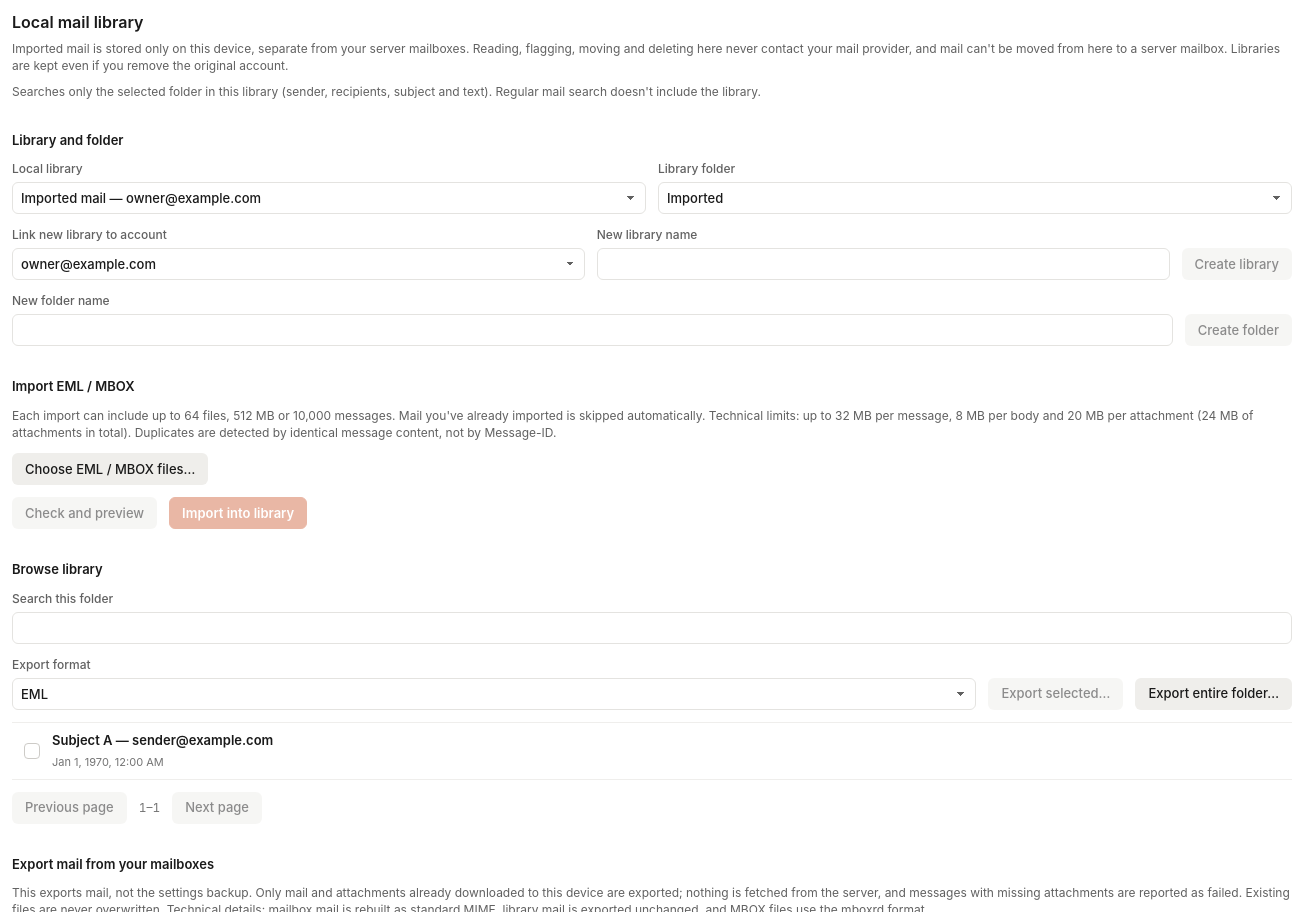
Test: Local mail archive browser › clears validation when destination changes and scopes archive exports separately from cached mailbox exports
This screenshot has width=1304, height=912.
Expected: the button "Subject A — sender@example.com Jan 1, 1970, 12:00 AM" is shown, [52,723,1292,779]
Click the checkbox named "Select Subject A" at (32, 751), box [24,743,40,759]
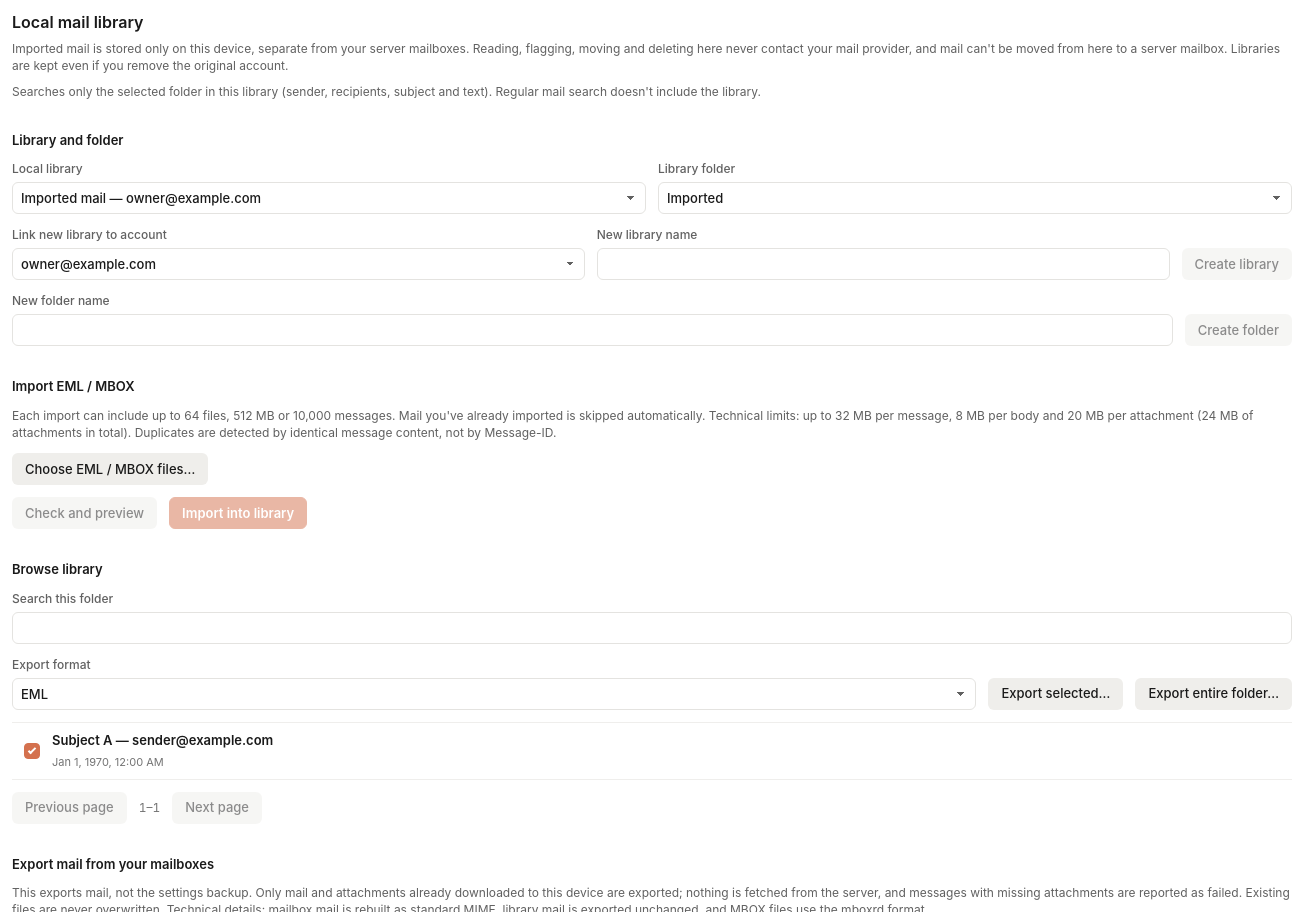
Click the button "Export selected…" at (1056, 694), box [988,678,1124,710]
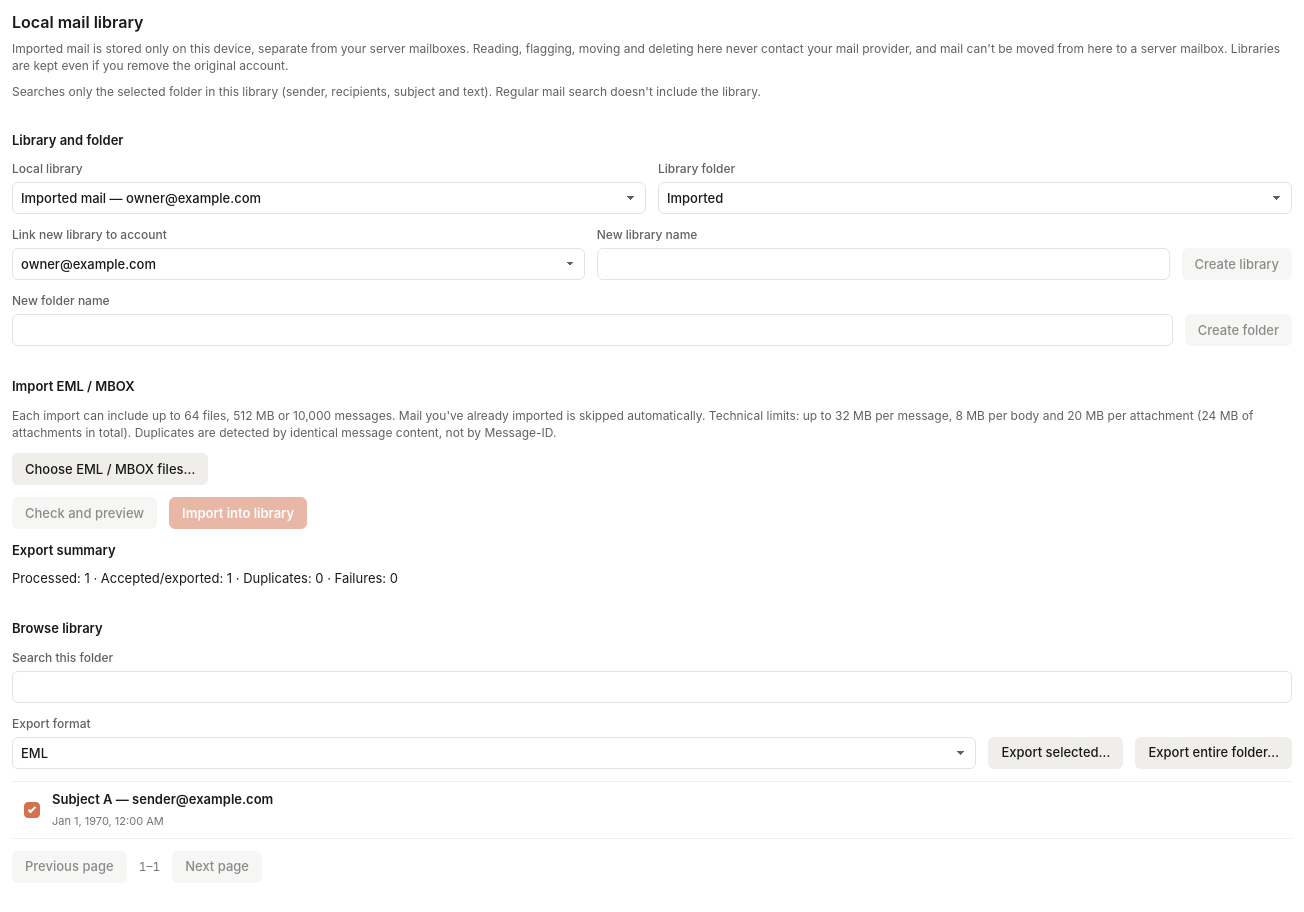
Select "MBOX (mboxrd)" in the dropdown labelled "Export format" at (494, 753), box [12,737,976,769]
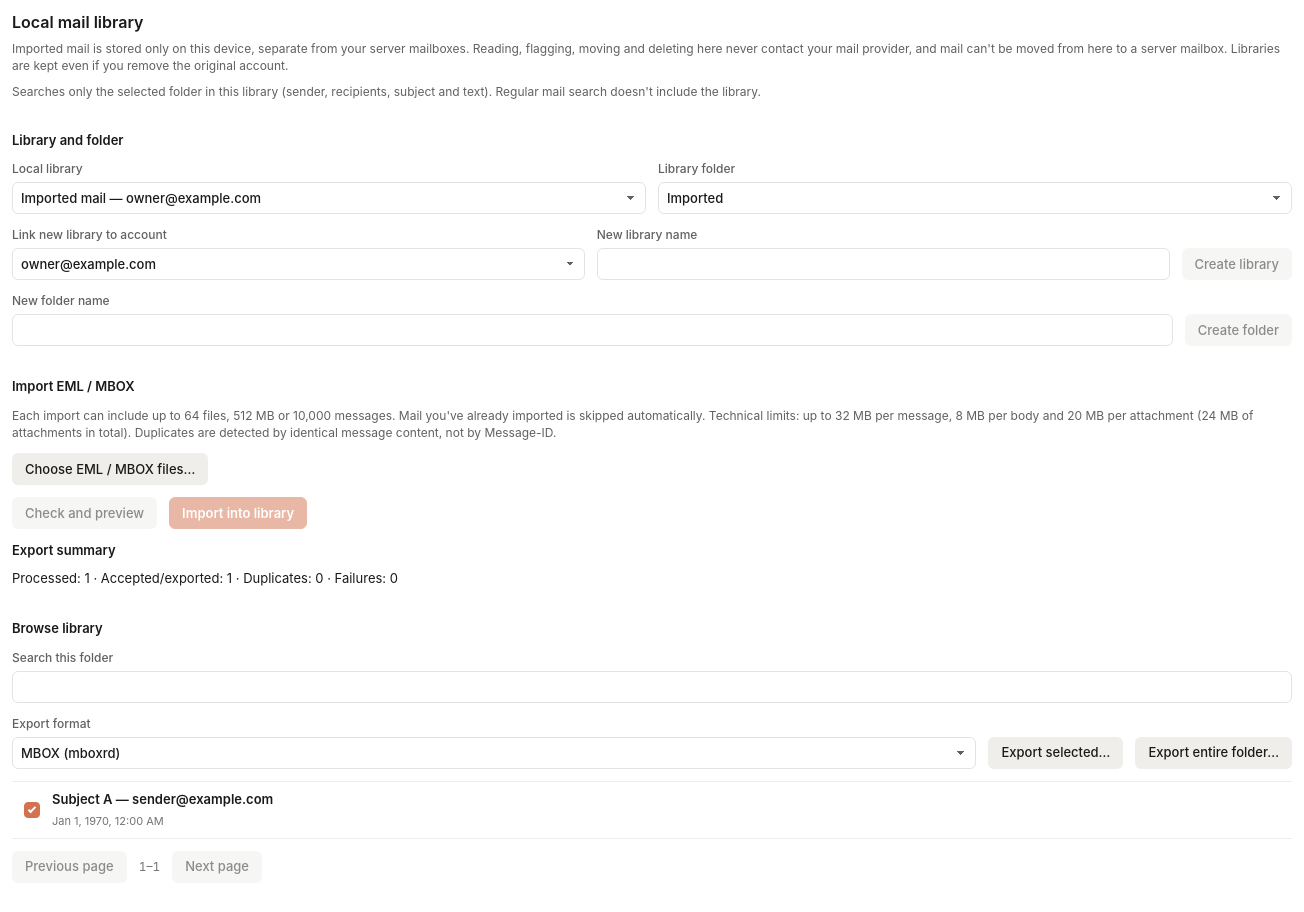
Click the button "Export entire folder…" at (1214, 753), box [1135,737,1292,769]
(page scrolled)
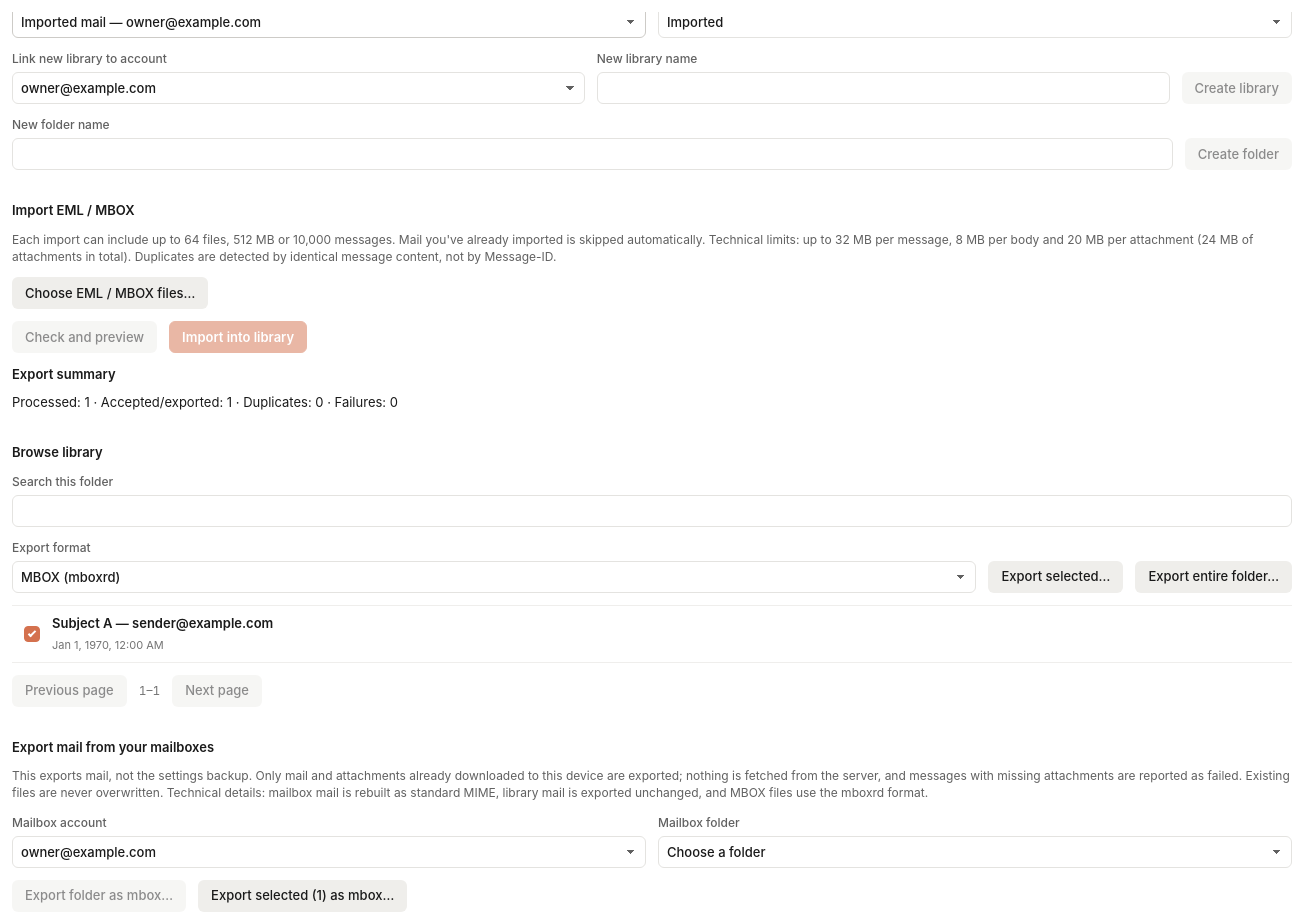
Click the button "Export selected (1) as mbox…" at (303, 896), box [198,880,407,911]
(page scrolled)
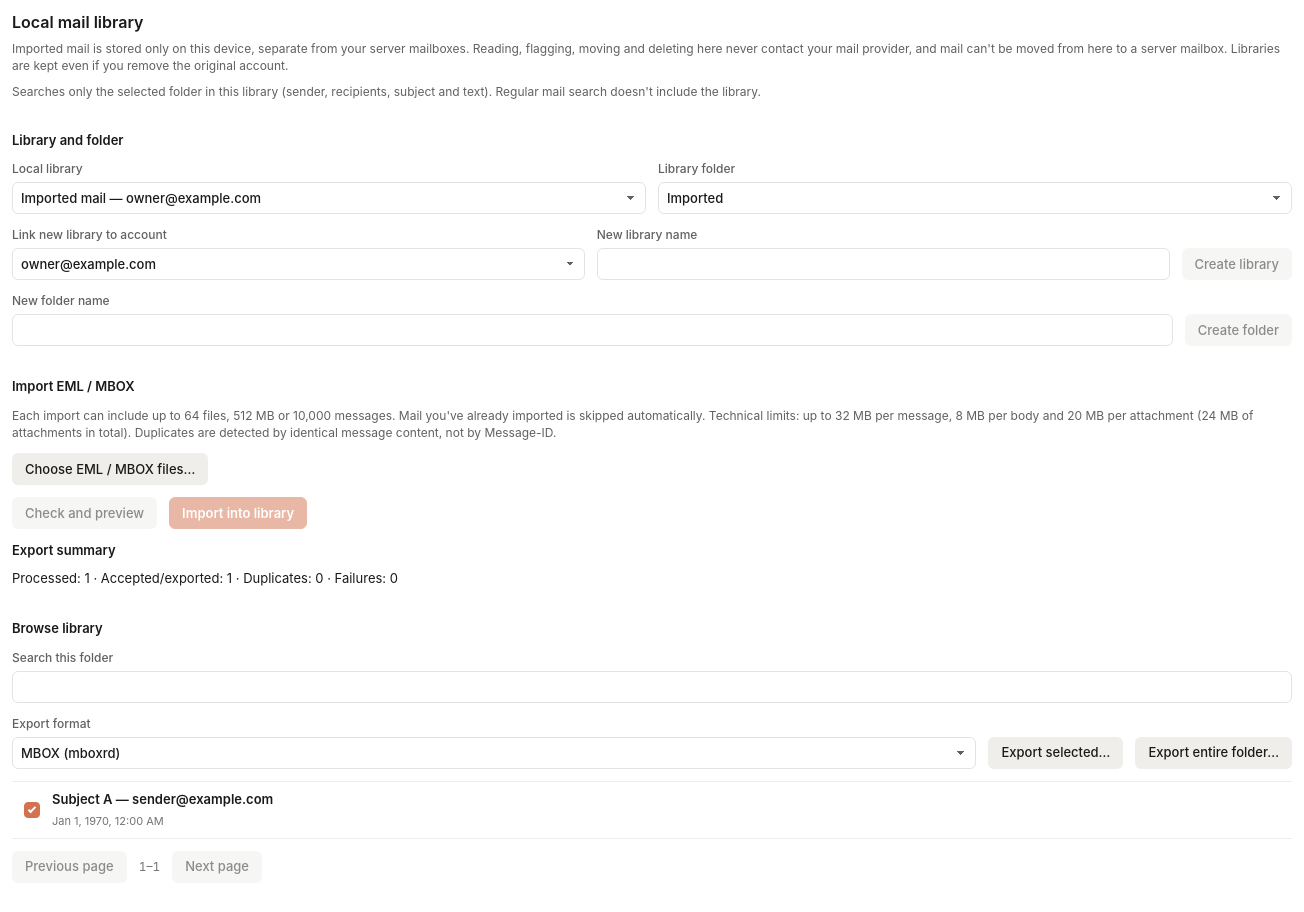
Select "Other archive — owner@example.com" in the dropdown labelled "Local library" at (329, 198), box [12,182,646,214]
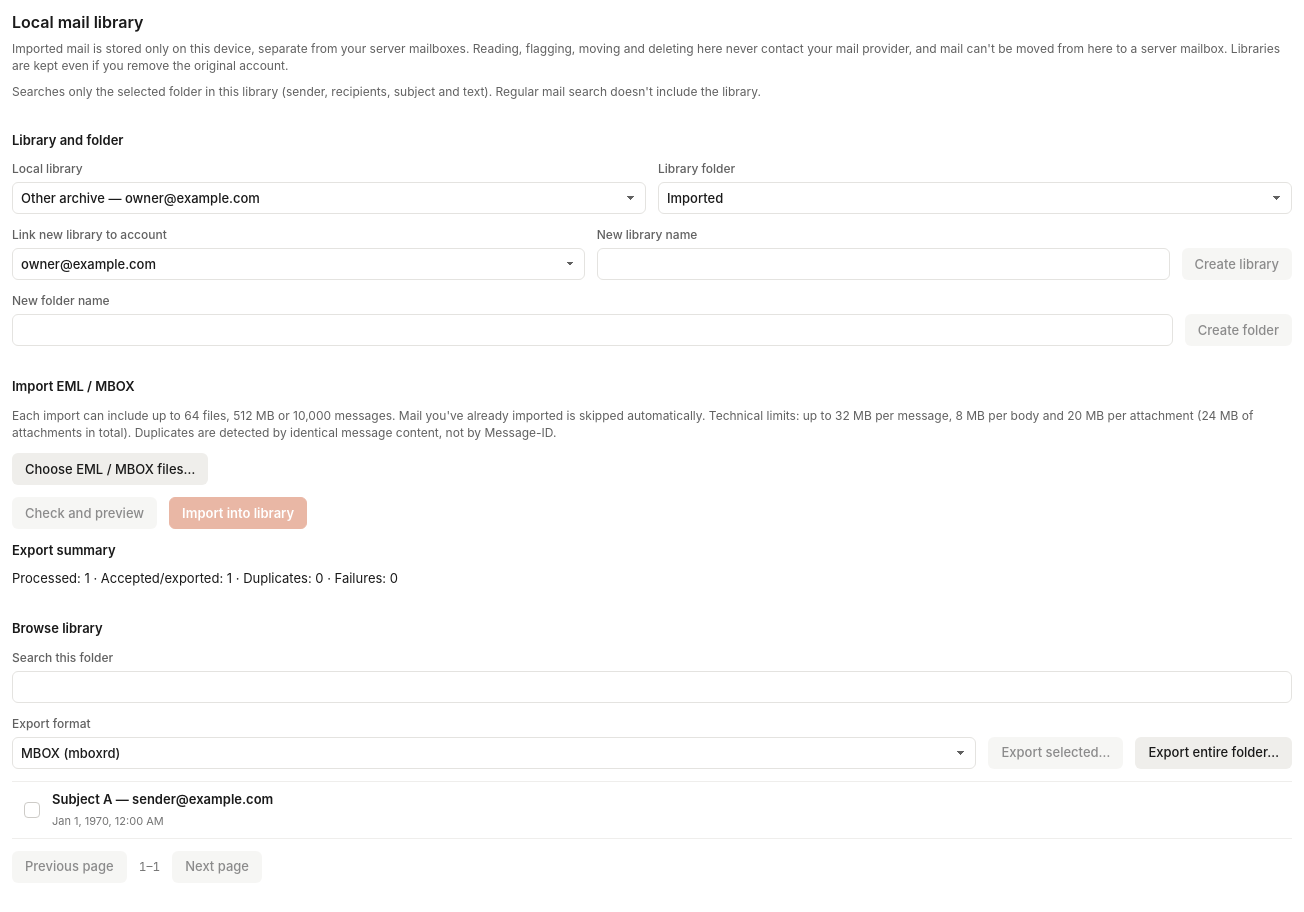
Now the button "Export selected…" is disabled, box [988,737,1124,769]
